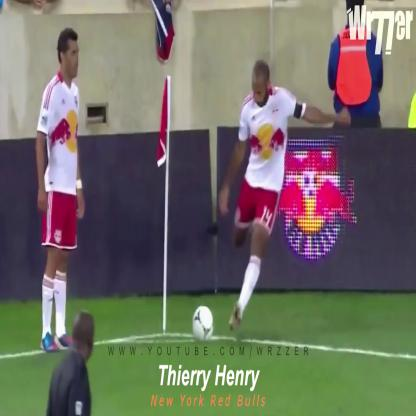corner kick: (140, 47, 300, 376)
